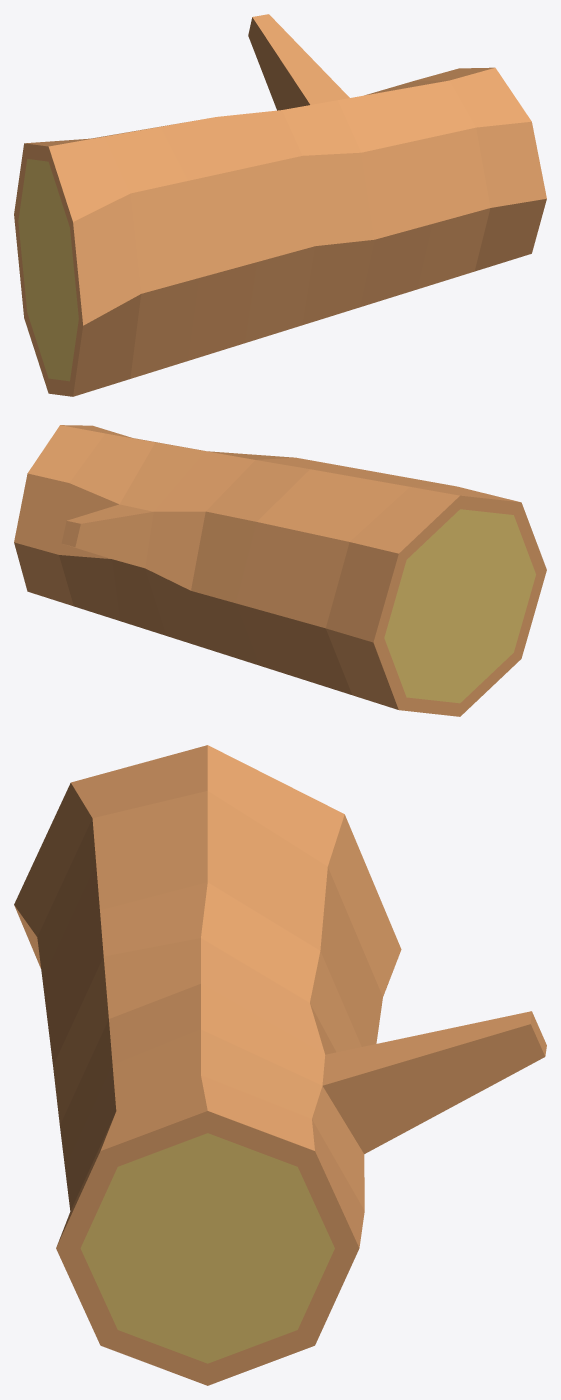
Rendered from uploads-files-2548522-fbx.blendtree.fbx.
The picture shows the model from 3 angles, top to bottom: view 1: azimuth 30°, elevation 25°; view 2: azimuth 150°, elevation 25°; view 3: azimuth 270°, elevation 25°; orthographic projection. The views are drawn at different scales.
Visible parts, largest first — view 1: Cylinder; view 2: Cylinder; view 3: Cylinder.
Boxes of the visible parts, x1,y1,x2,y2 form: Cylinder: [14, 14, 546, 396]; Cylinder: [14, 425, 546, 716]; Cylinder: [14, 745, 546, 1385].
Bounding box in the file's own units: 382 × 189 × 250.
